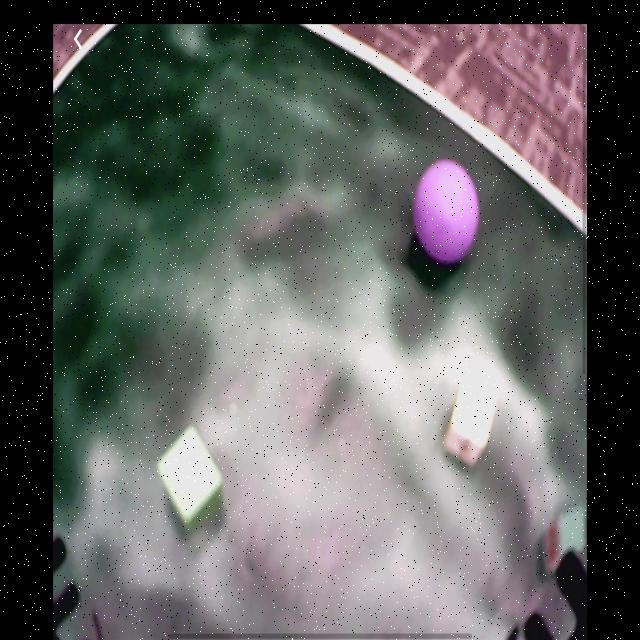ball: (415, 159, 478, 267)
